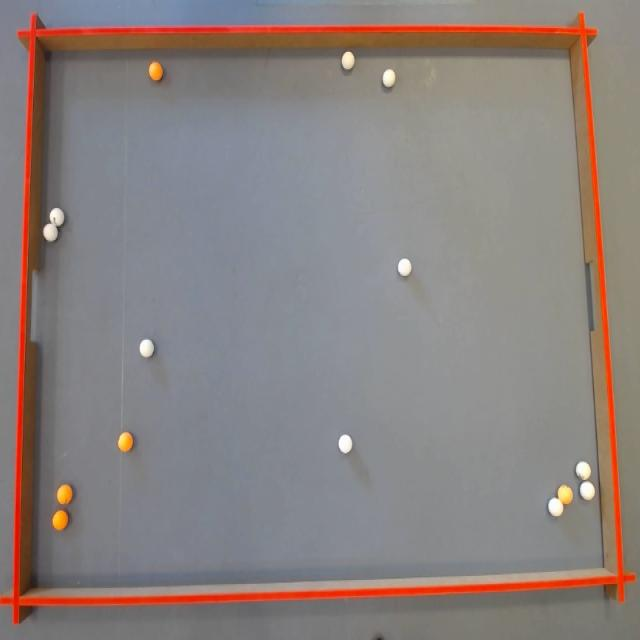orange_ball: (52, 510, 69, 531), (57, 484, 72, 505), (118, 432, 133, 452), (558, 485, 572, 504), (148, 61, 162, 80)
white_ball: (580, 481, 596, 501), (548, 497, 563, 517), (50, 208, 65, 228), (139, 339, 154, 358), (43, 223, 58, 242), (338, 434, 352, 454), (576, 461, 590, 481), (382, 69, 396, 87), (398, 258, 411, 276), (342, 51, 354, 70)
